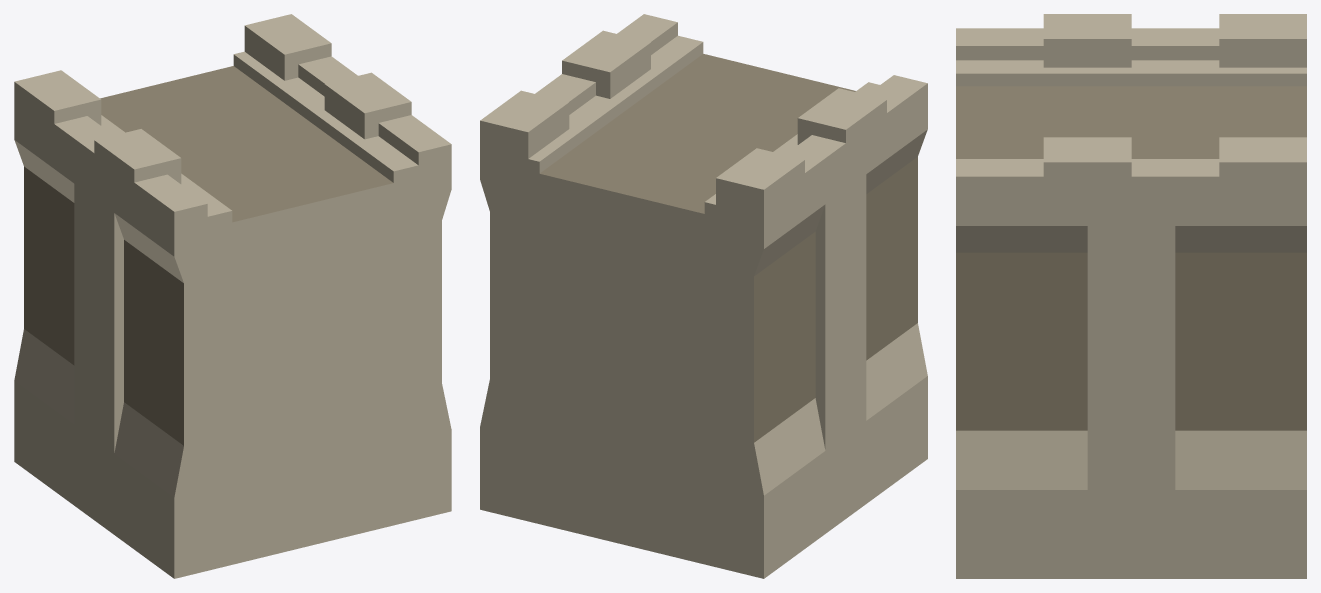
The model's file is wallPillar.glb.
The picture shows the model from 3 angles, left to right: view 1: azimuth 30°, elevation 25°; view 2: azimuth 150°, elevation 25°; view 3: azimuth 270°, elevation 25°; orthographic projection. The views are drawn at different scales.
Parts seen in each view (by area): view 1: mesh_0, mesh_1; view 2: mesh_0, mesh_1; view 3: mesh_0, mesh_1.
Part boxes in pixels (x1=…): mesh_0: x1=14, y1=14, x2=451, y2=578; mesh_1: x1=24, y1=66, x2=392, y2=445; mesh_0: x1=480, y1=14, x2=927, y2=578; mesh_1: x1=540, y1=54, x2=917, y2=442; mesh_0: x1=956, y1=14, x2=1306, y2=578; mesh_1: x1=956, y1=86, x2=1306, y2=430.
Bounding box in the file's own units: 10 × 13.1 × 10.
